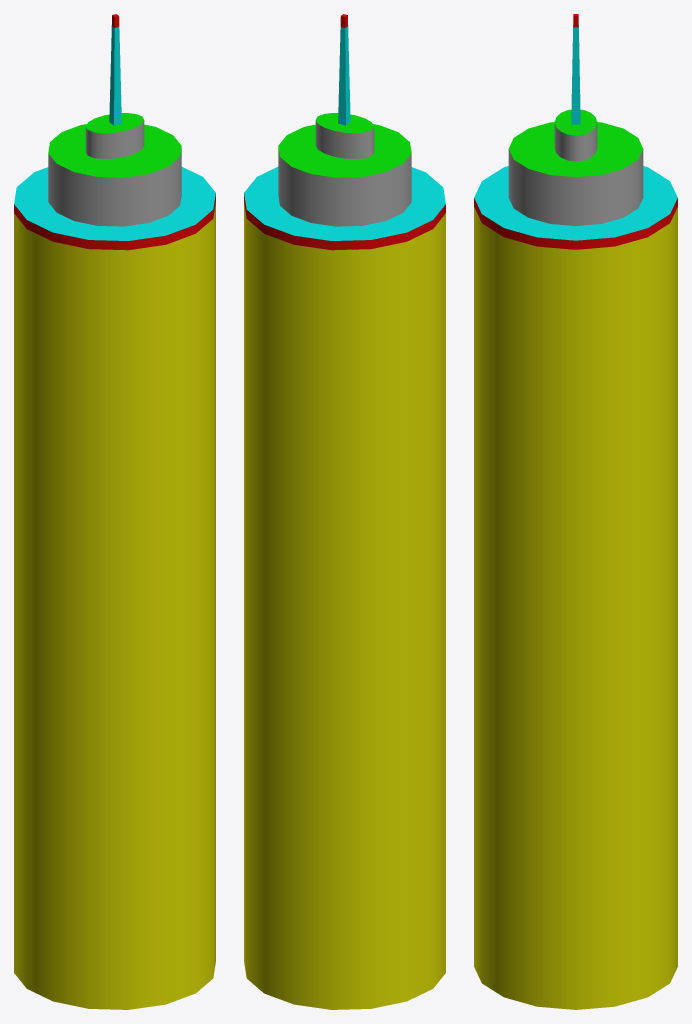
Rendered from Building_Round.fbx.
3 renders of one model, left to right at view 1: azimuth 30°, elevation 25°; view 2: azimuth 150°, elevation 25°; view 3: azimuth 270°, elevation 25°, orthographic.
Parts seen in each view (by area): view 1: Round_Base, Round_Stack, Round_Stack_2, pCube9; view 2: Round_Base, Round_Stack, Round_Stack_2, pCube9; view 3: Round_Base, Round_Stack, Round_Stack_2, pCube9.
Boxes of the visible parts, box(x1,y1,x2,y2) form: Round_Base: box(14, 167, 215, 1009); Round_Stack: box(48, 124, 181, 226); Round_Stack_2: box(85, 113, 144, 159); pCube9: box(109, 14, 121, 125); Round_Base: box(244, 167, 445, 1009); Round_Stack: box(278, 124, 411, 226); Round_Stack_2: box(315, 113, 374, 159); pCube9: box(338, 14, 350, 125); Round_Base: box(474, 166, 677, 1009); Round_Stack: box(508, 122, 643, 225); Round_Stack_2: box(554, 109, 597, 161); pCube9: box(571, 14, 580, 124).
Size of the model in its own units: 1200 by 6189 by 1200.
